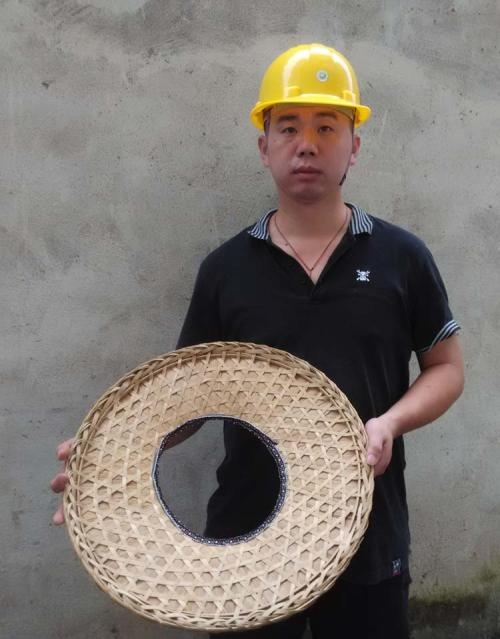yellow: (251, 40, 370, 208)
